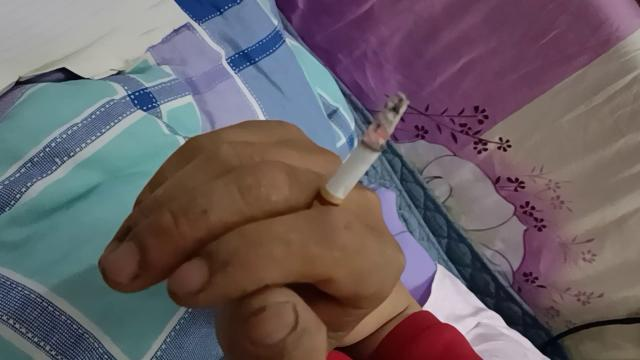Smoking: (306, 90, 408, 230)
